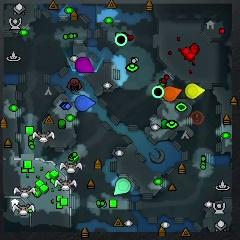p1: (75, 95, 96, 111)
p2: (114, 177, 131, 194)
p2Clone: (115, 33, 127, 46), (152, 86, 164, 98)
p3: (75, 56, 94, 73)
p4: (185, 83, 206, 99)
p5: (164, 86, 182, 101)
